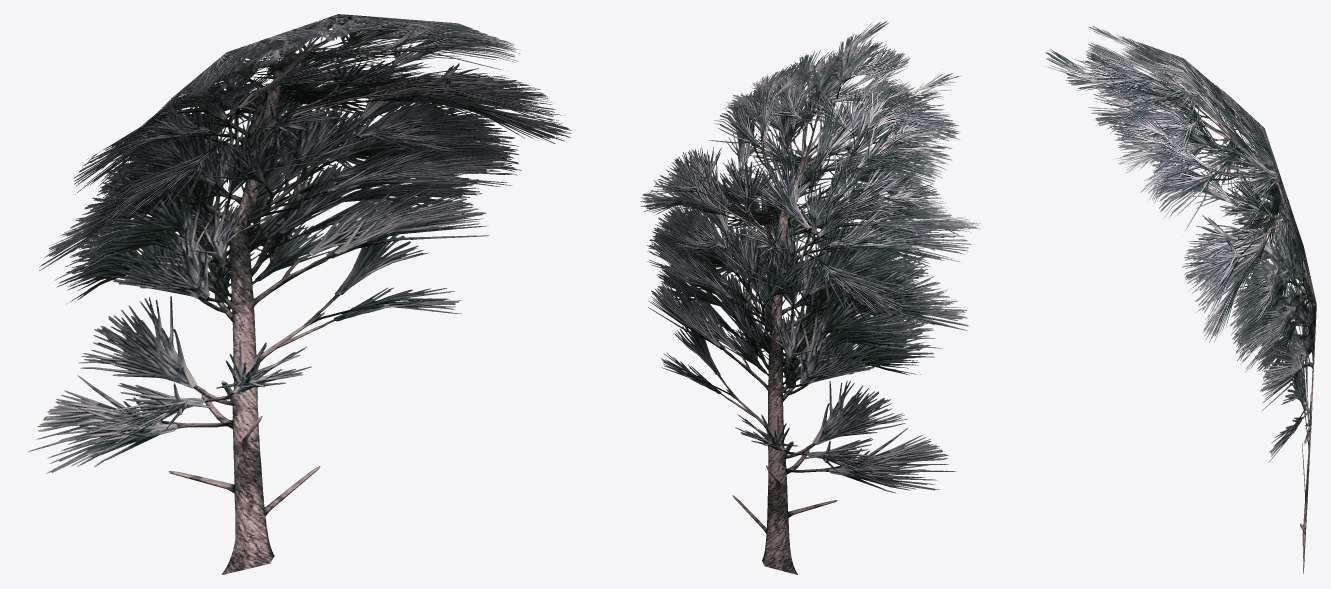
The model's file is conifer_curved_leaf_gameReady.FBX.
The picture shows the model from 3 angles, left to right: view 1: azimuth 30°, elevation 25°; view 2: azimuth 150°, elevation 25°; view 3: azimuth 270°, elevation 25°; orthographic projection. The views are drawn at different scales.
Parts seen in each view (by area): view 1: Object002; view 2: Object002; view 3: Object002.
Boxes of the visible parts, box(x1,y1,x2,y2) form: Object002: box(28, 14, 571, 574); Object002: box(640, 21, 980, 574); Object002: box(1045, 26, 1316, 573).
Size of the model in its own units: 6.08 by 3.64 by 7.15.
